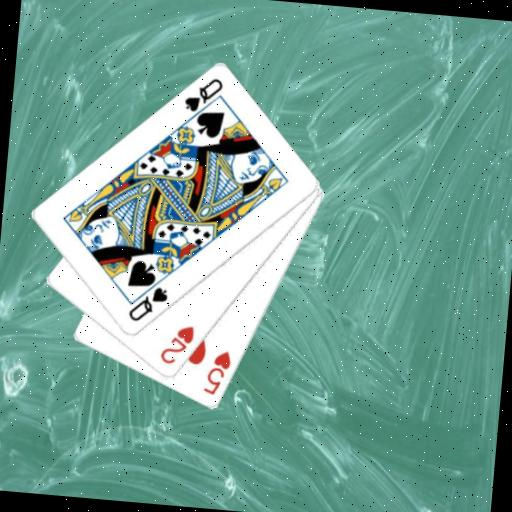2H: (156, 321, 197, 369)
5H: (200, 347, 234, 399)
QS: (125, 281, 170, 326), (181, 73, 226, 117)
